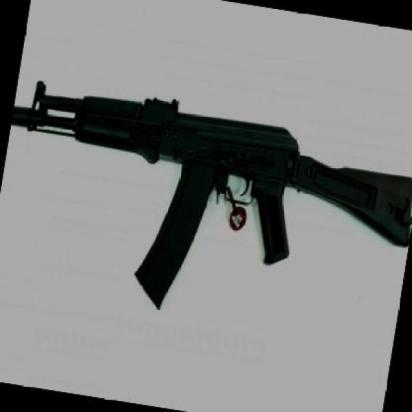Gun: (0, 48, 412, 342)
